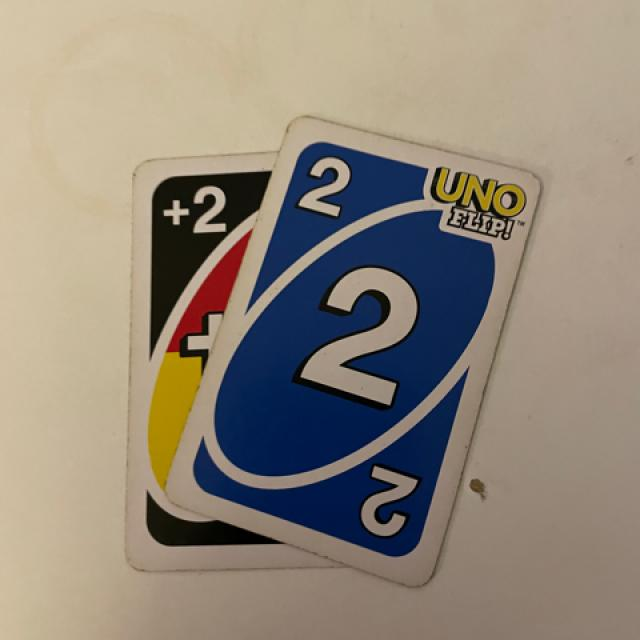lblue-2: (291, 141, 364, 236)
